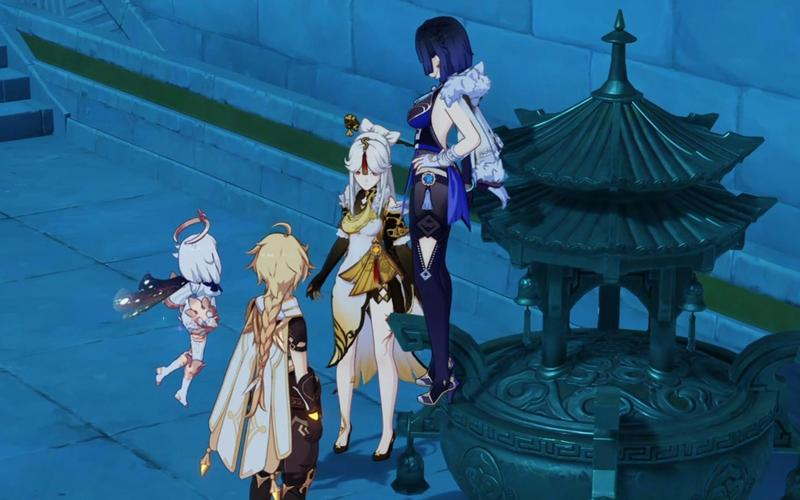夜兰: (399, 17, 489, 407)
